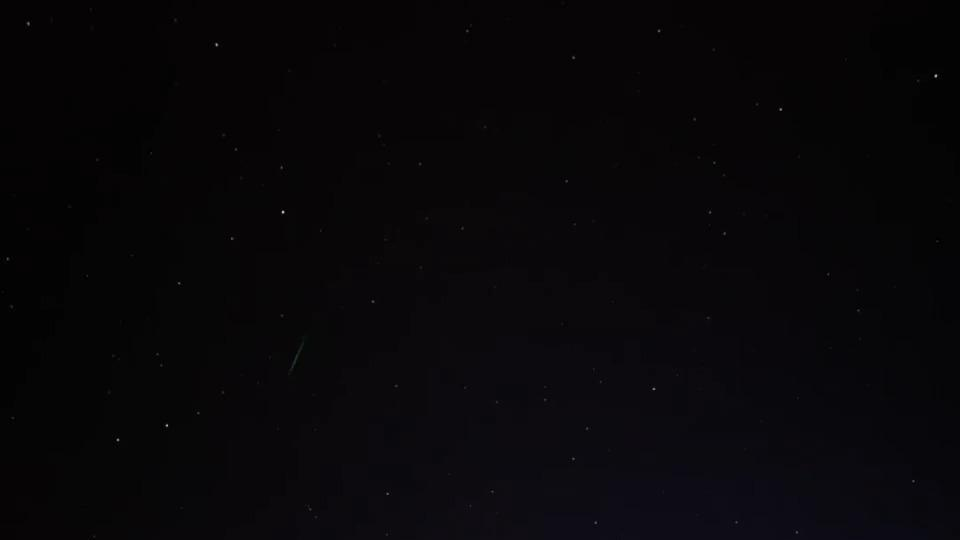meteorite: (266, 326, 333, 384)
